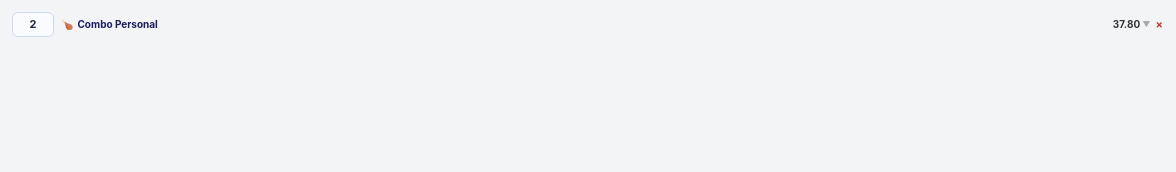
Scenario: CartItemRow › toggles the product option breakdown
Expected: the text "1pz Receta Secreta" is not shown
Step 1. Click the button named "Ver detalle de Combo Personal" → (1146, 24), box [1141,18,1152,30]
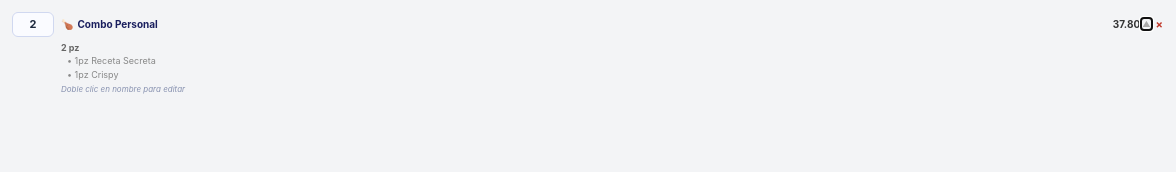
Now the list item "• 1pz Receta Secreta" is shown, box [67,55,156,66]
